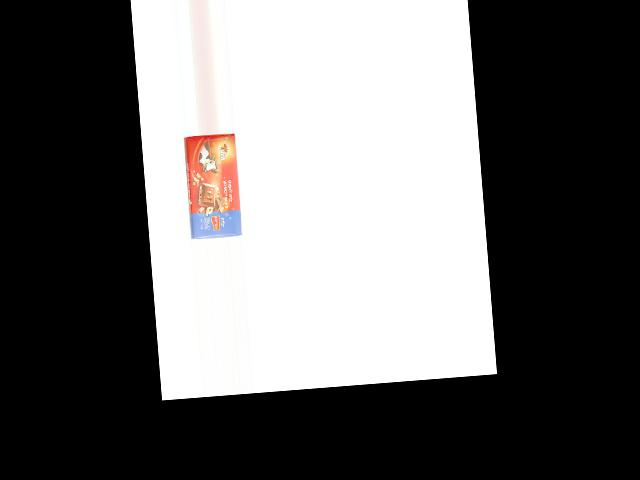chocolate: (178, 133, 241, 238)
